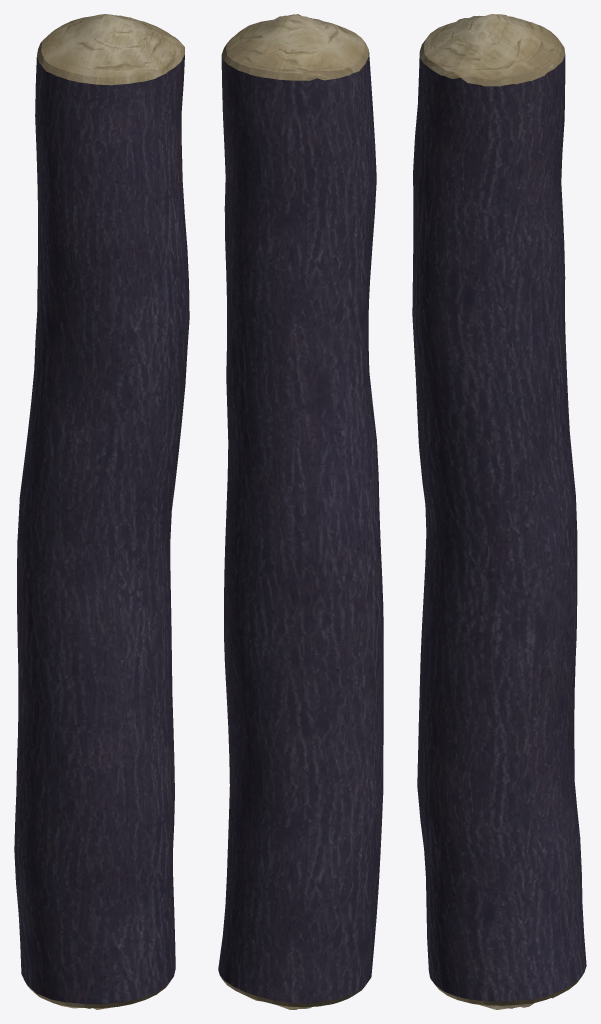
The picture shows the model from 3 angles, left to right: view 1: azimuth 30°, elevation 25°; view 2: azimuth 150°, elevation 25°; view 3: azimuth 270°, elevation 25°; orthographic projection.
Visible parts, largest first — view 1: SM_GF_Oak_Tree_01_half_top_LOD0; view 2: SM_GF_Oak_Tree_01_half_top_LOD0; view 3: SM_GF_Oak_Tree_01_half_top_LOD0.
Boxes of the visible parts, left/top/right/bottom form: SM_GF_Oak_Tree_01_half_top_LOD0: left=14, top=14, right=189, bottom=1009; SM_GF_Oak_Tree_01_half_top_LOD0: left=218, top=14, right=383, bottom=1009; SM_GF_Oak_Tree_01_half_top_LOD0: left=412, top=14, right=586, bottom=1009.
Bounding box in the file's own units: 0.7975 × 5.18 × 0.8216.
1 material, 1 textured.
